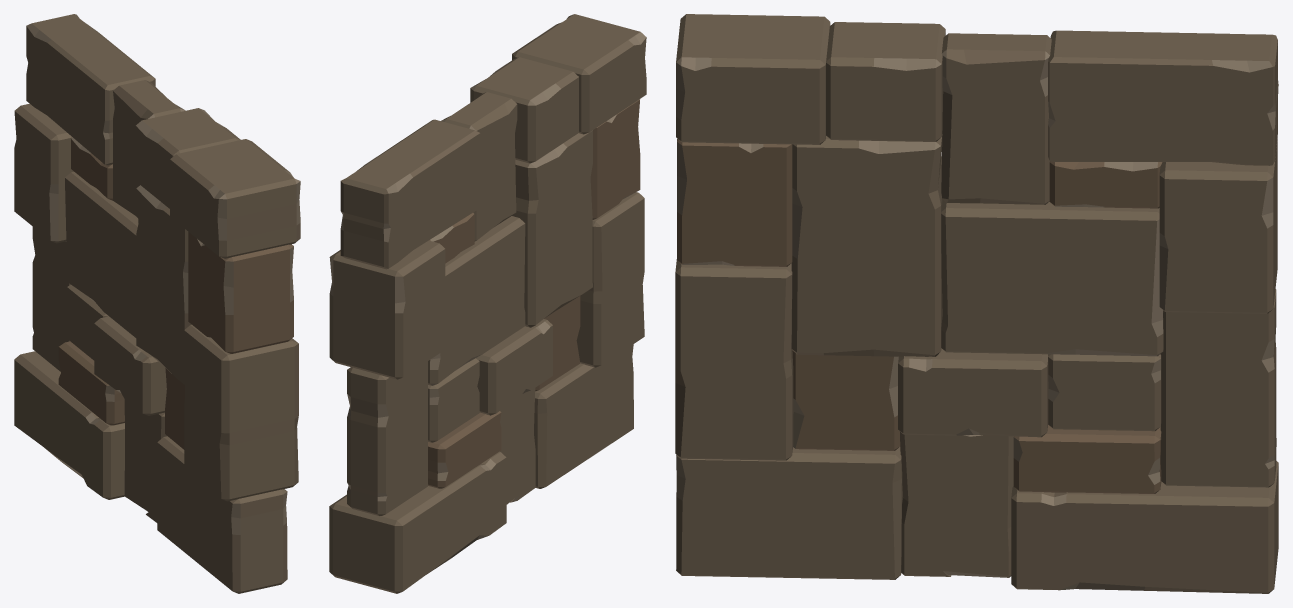
File: chamber_wall_east_1_lev3.glb
3 renders of one model, left to right at view 1: azimuth 30°, elevation 25°; view 2: azimuth 150°, elevation 25°; view 3: azimuth 270°, elevation 25°, orthographic. The views are drawn at different scales.
Parts seen in each view (by area): view 1: chamber_wall_east_1_lev3; view 2: chamber_wall_east_1_lev3; view 3: chamber_wall_east_1_lev3.
Boxes of the visible parts, box(x1,y1,x2,y2) form: chamber_wall_east_1_lev3: box(14, 14, 300, 593); chamber_wall_east_1_lev3: box(329, 14, 646, 593); chamber_wall_east_1_lev3: box(675, 14, 1278, 593).
Bounding box in the file's own units: 1.46 × 5.92 × 6.13.
